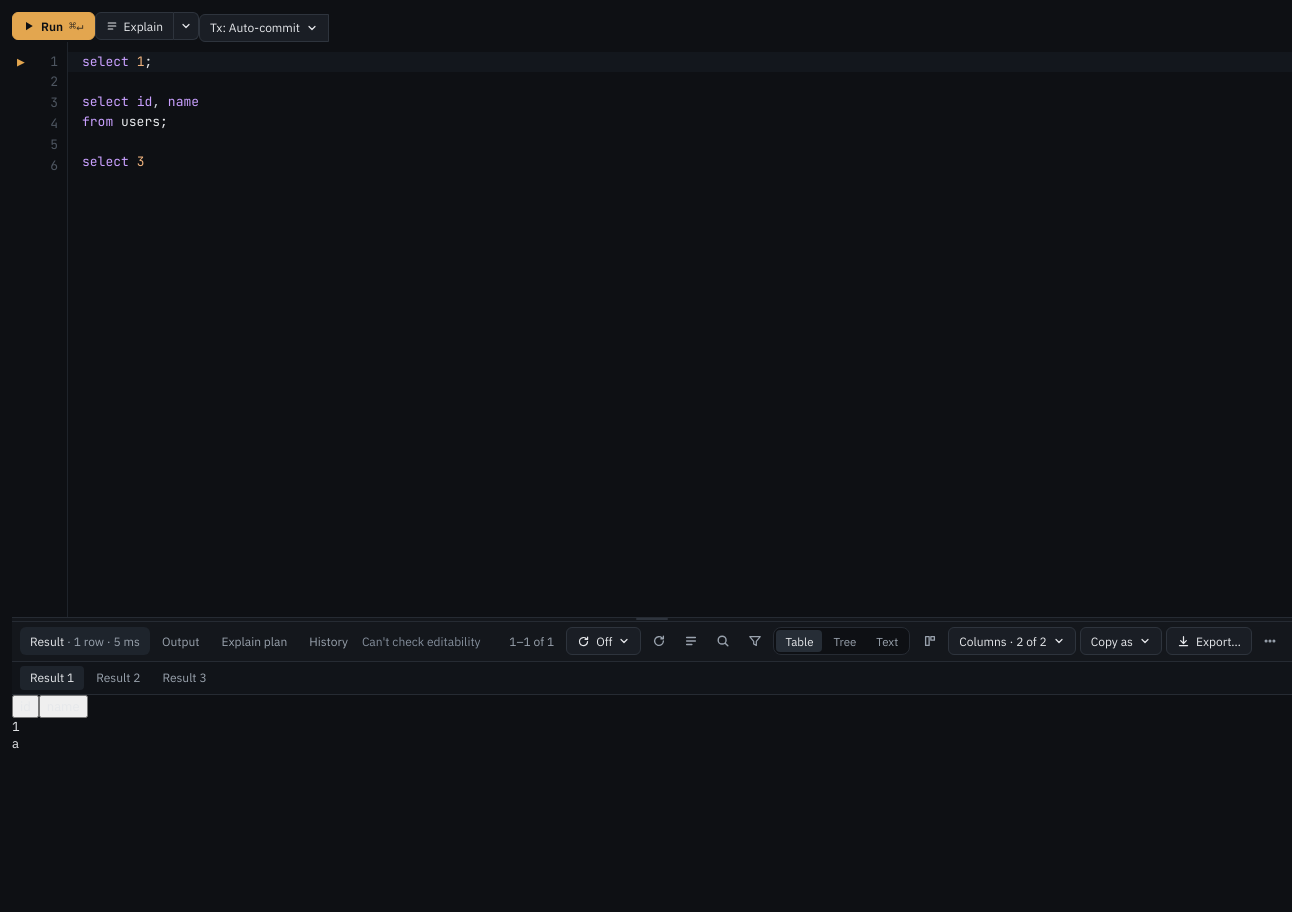
run modes › runs the whole script and shows every result set as a sub-tab (spec: sql-console › Run script with several results)
Click the tab "Result 2". click: [118, 678]
box: [86,666,150,690]
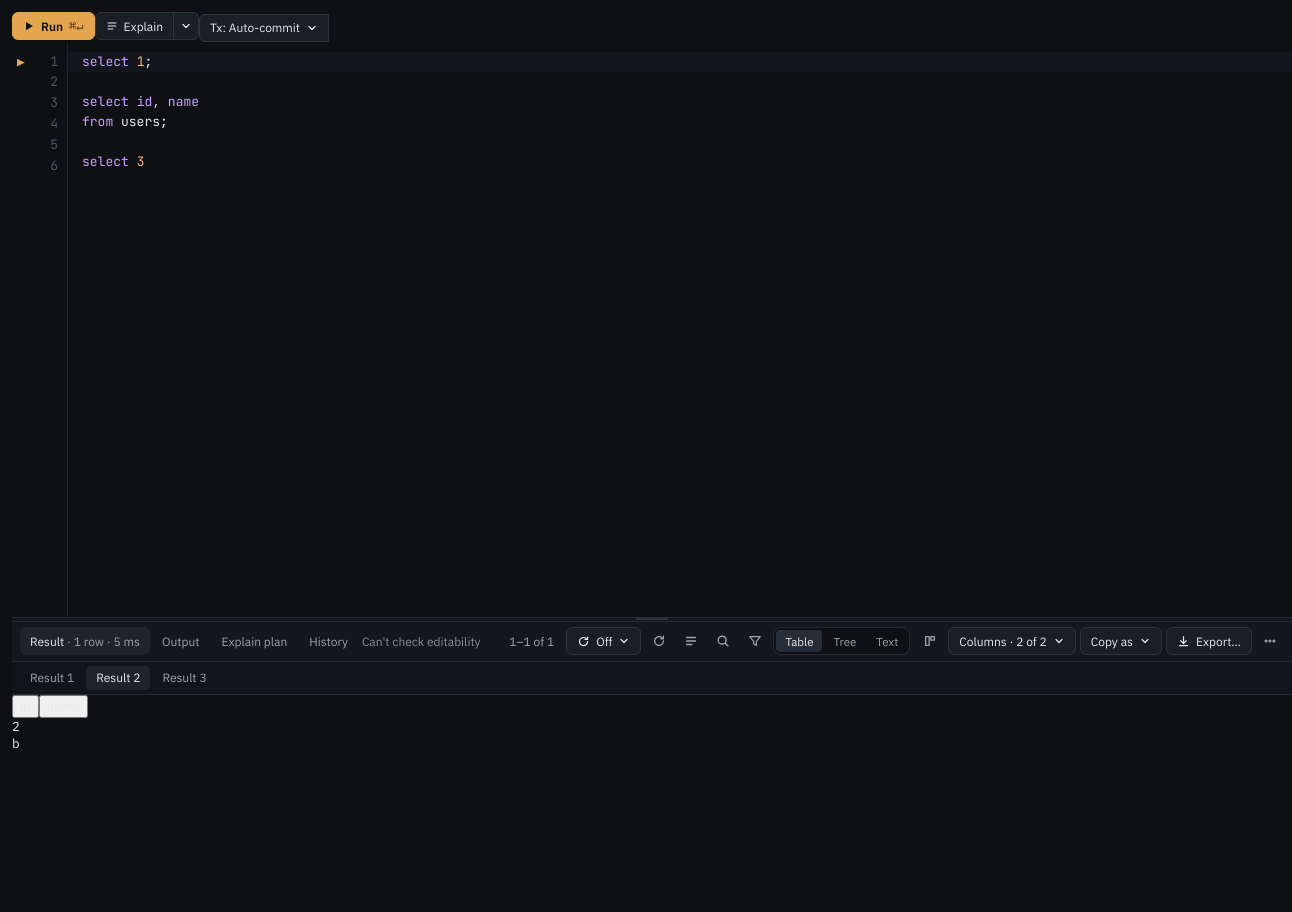
Result: the text "b" is shown at [12,734,20,752]
# The Output log lists every statement with its timing.
Click the tab "Output". click: [181, 641]
box: [152,627,209,655]
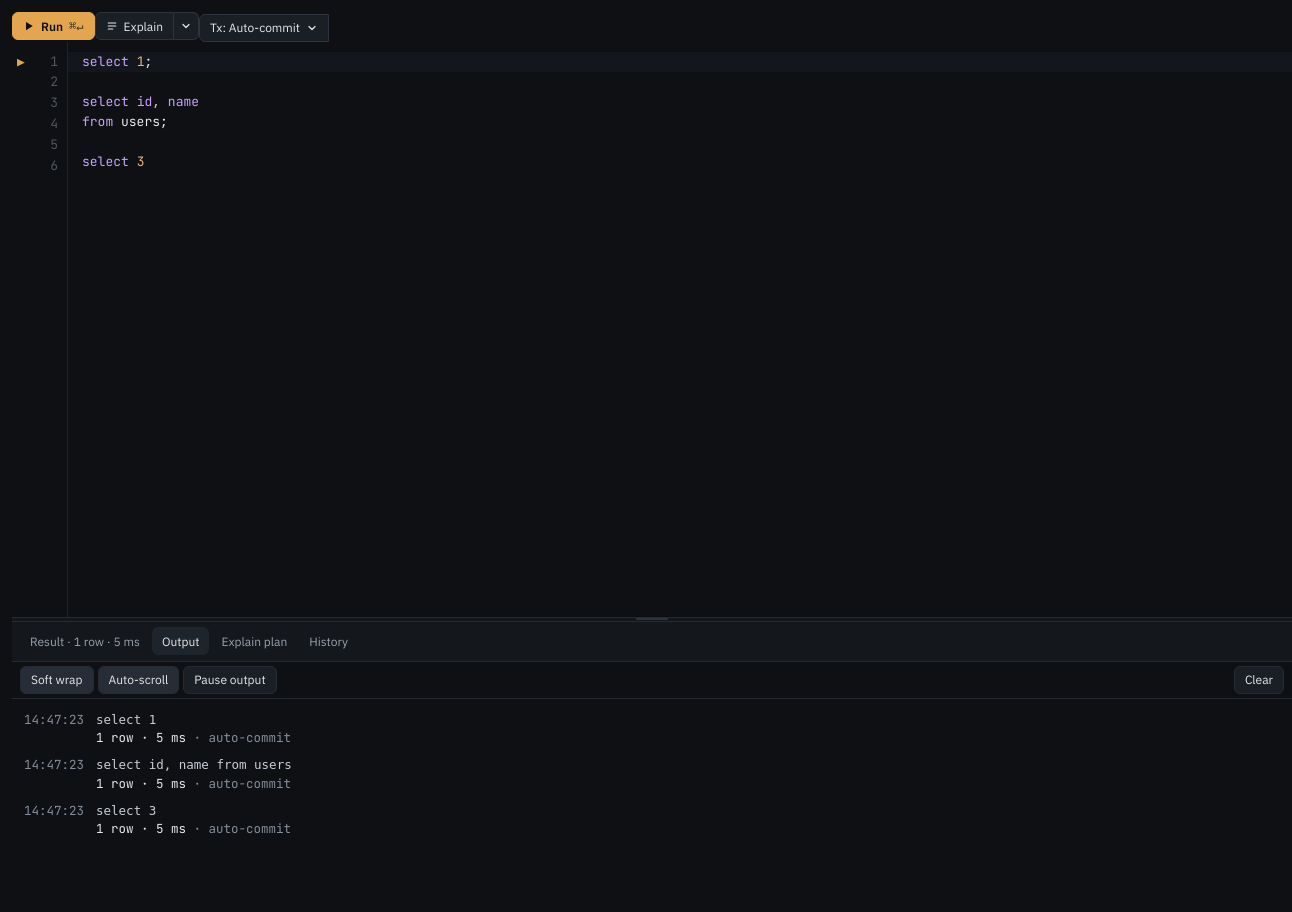
Result: the text "select 1" is shown at [96,712,156,726]
Result: the text "1 row · 5 ms · auto-commit" is shown 3 times at [96,729,291,748]; [96,775,292,794]; [96,820,291,839]
